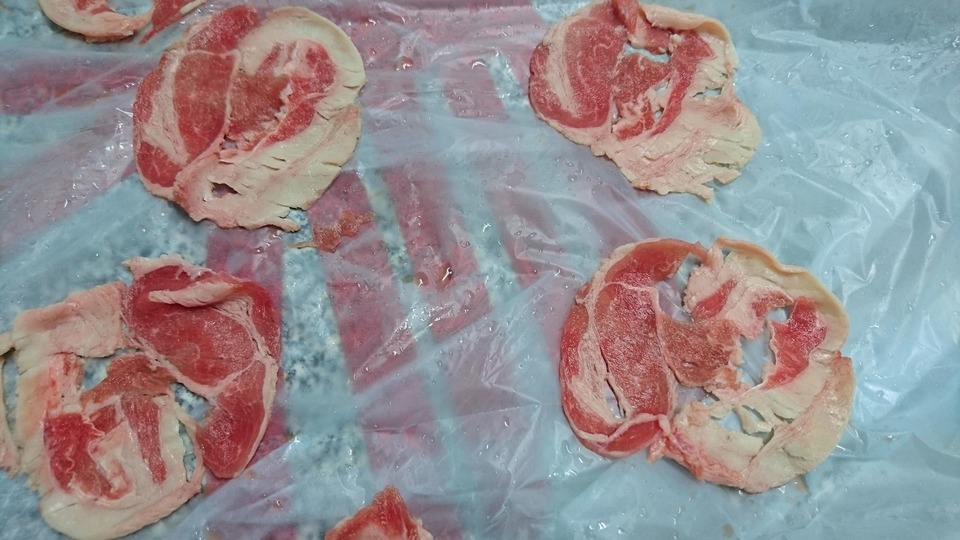restructured meat: (2, 259, 310, 540), (546, 230, 856, 495), (131, 4, 369, 235), (522, 1, 762, 207), (328, 479, 435, 540)
